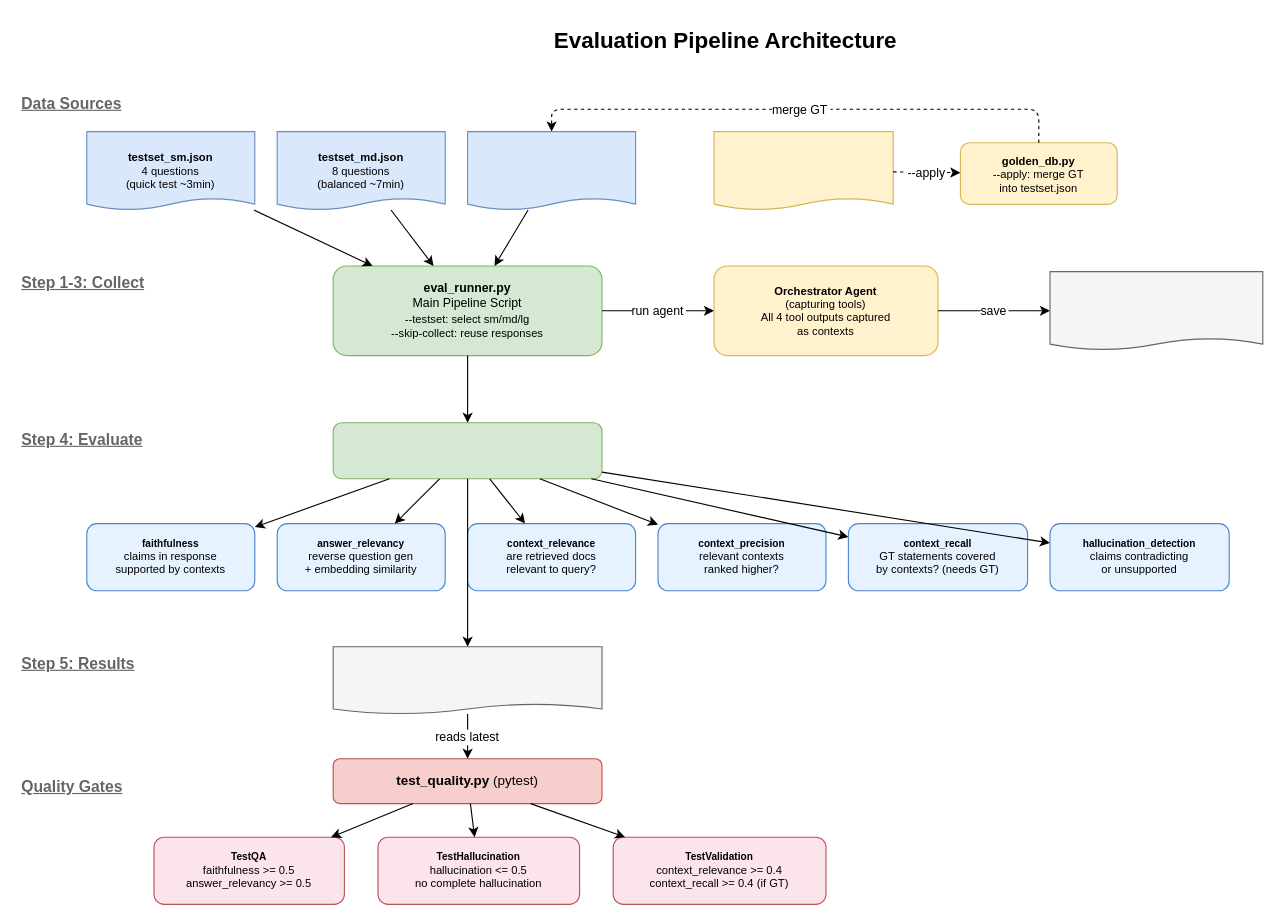
This 1282x924 diagram has some shape labels left out. Each missing label, with the centre of its shape:
collected_latest.json {query, contexts[], response, ground_truth}: the point at 1156,310
eval_YYYYMMDD_HHMMSS.json scores_summary + per_question details: the point at 467,680
golden_db.json 15 GT entries LLM-generated + human-reviewed: the point at 803,170
metrics.py LLM-as-Judge (gpt-4o-mini): the point at 467,450
testset_lg.json 15 questions (full ~15min): the point at 551,170
